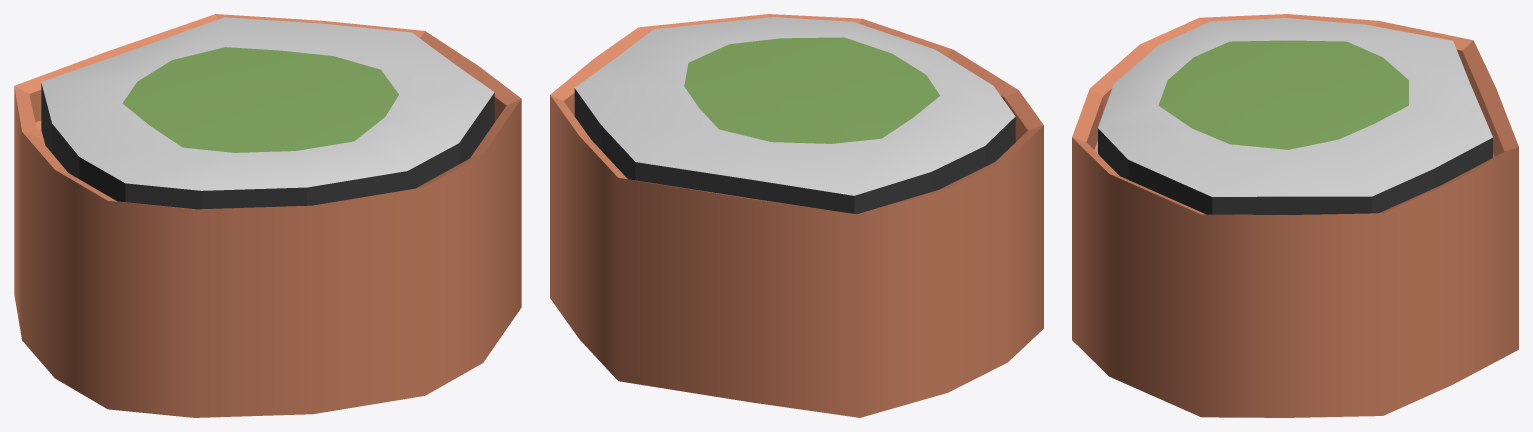
The model's file is Sushi3.fbx.
3 views of the same model, side by side, from view 1: azimuth 30°, elevation 25°; view 2: azimuth 150°, elevation 25°; view 3: azimuth 270°, elevation 25° (orthographic). The views are drawn at different scales.
Visible parts, largest first — view 1: sushi3; view 2: sushi3; view 3: sushi3.
Part boxes in pixels (x1,y1,x2,y2): sushi3: (14, 14, 521, 417); sushi3: (550, 14, 1043, 417); sushi3: (1072, 14, 1518, 417).
Bounding box in the file's own units: 7.42 × 4 × 6.96.
